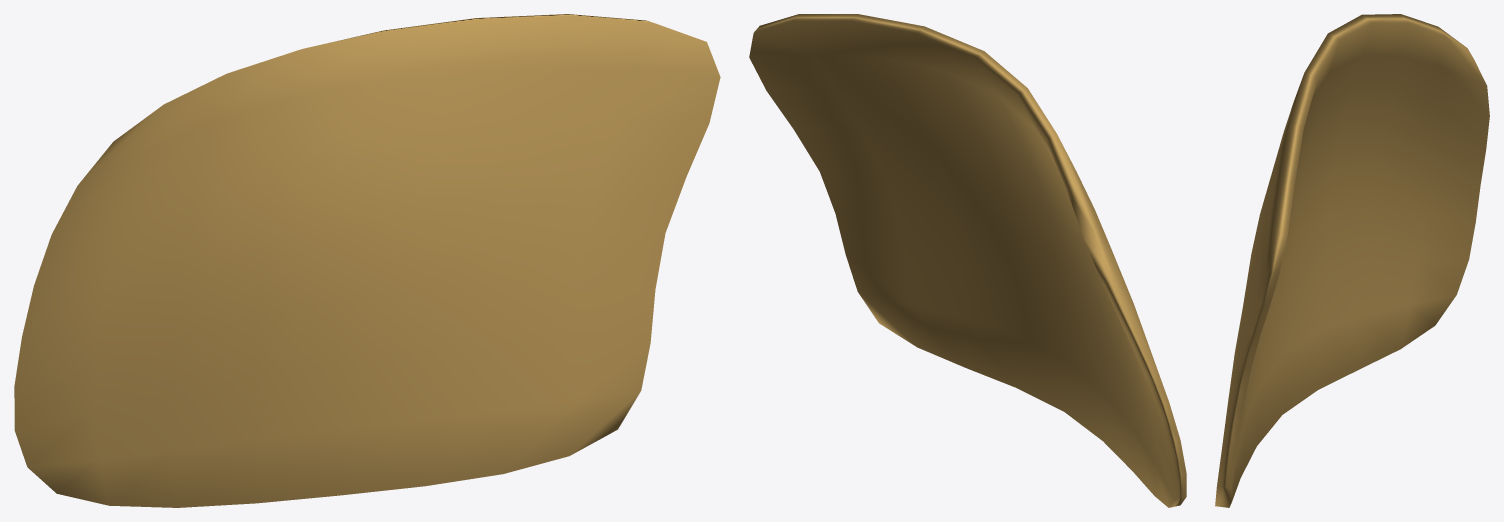
The picture shows the model from 3 angles, left to right: view 1: azimuth 30°, elevation 25°; view 2: azimuth 150°, elevation 25°; view 3: azimuth 270°, elevation 25°; orthographic projection. The views are drawn at different scales.
Parts seen in each view (by area): view 1: 右侧肩锁韧带; view 2: 右侧肩锁韧带; view 3: 右侧肩锁韧带.
Part boxes in pixels (x1,y1,x2,y2): 右侧肩锁韧带: (14, 14, 720, 507); 右侧肩锁韧带: (749, 14, 1186, 507); 右侧肩锁韧带: (1215, 14, 1489, 507).
Size of the model in its own units: 0.0348 by 0.0241 by 0.014.
